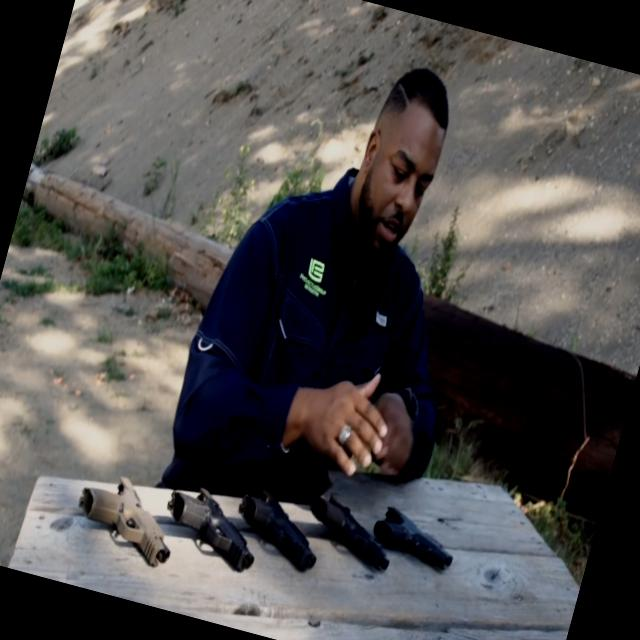handgun: (148, 465, 280, 599), (59, 456, 189, 578), (211, 468, 334, 584), (289, 471, 410, 582), (359, 494, 467, 590)
